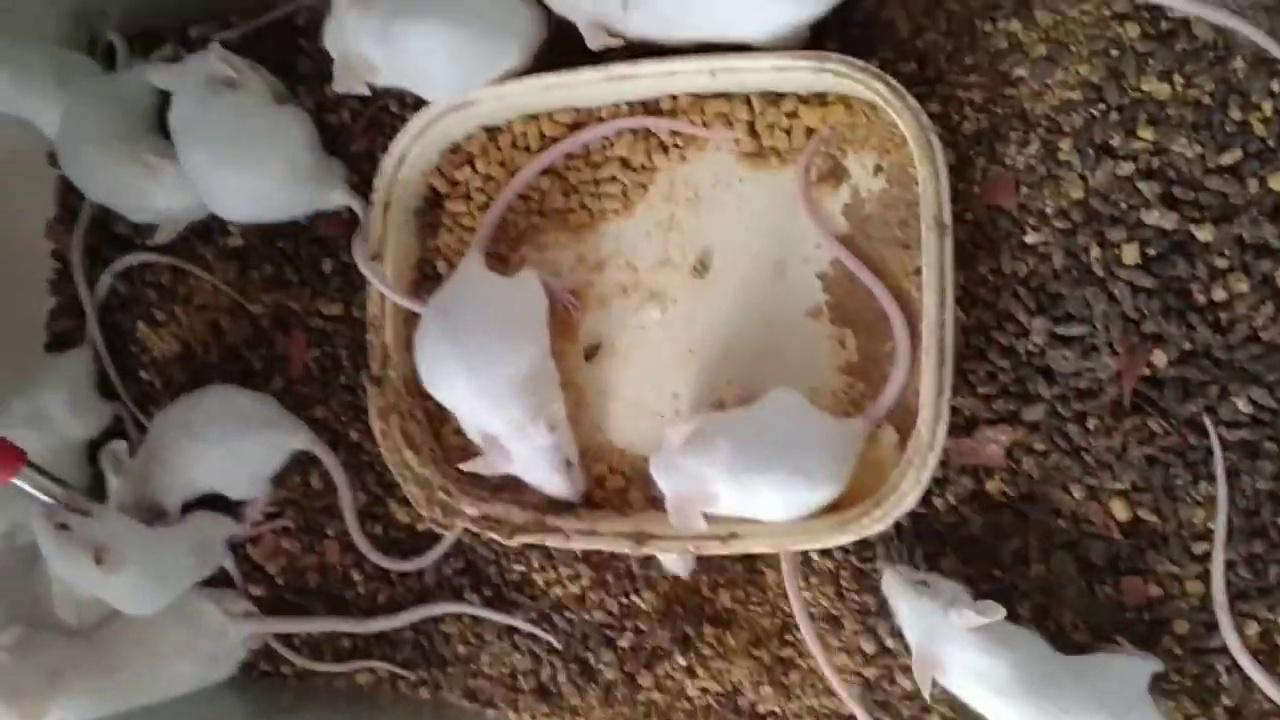rat: (414, 115, 750, 501), (882, 414, 1280, 720), (650, 110, 914, 533), (146, 40, 426, 313), (0, 588, 560, 720), (0, 253, 255, 542), (29, 489, 414, 680), (99, 382, 465, 570), (53, 58, 205, 247), (323, 0, 546, 104), (548, 0, 843, 50), (0, 32, 128, 136)
